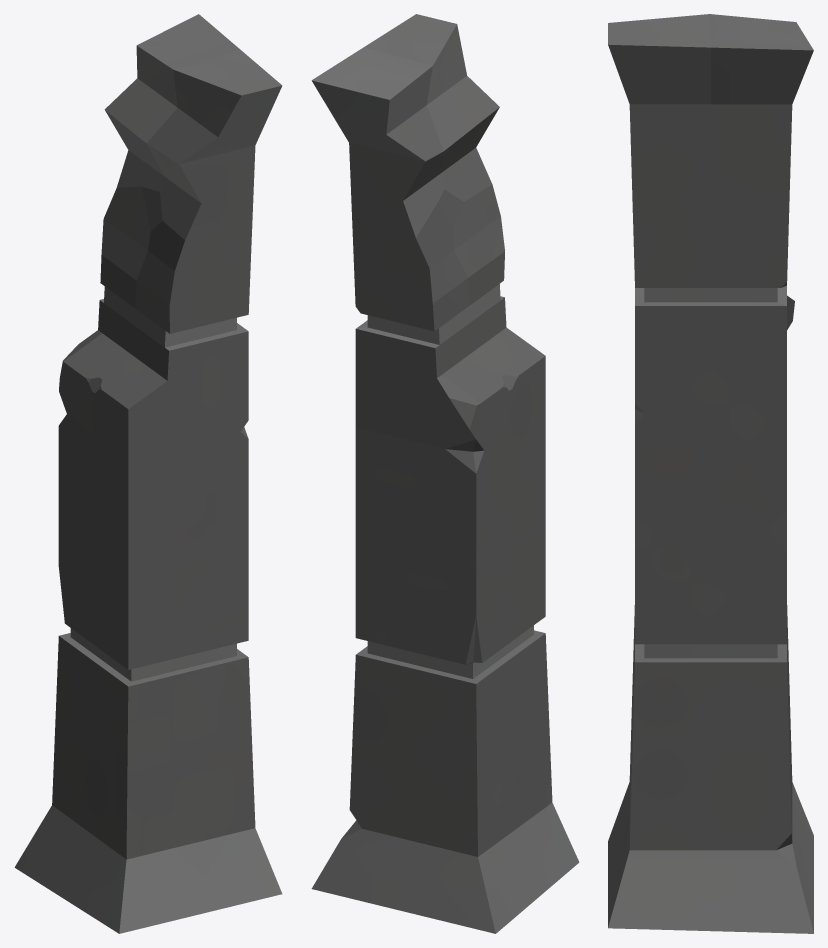
The model's file is Damaged_Pillar.fbx.
3 views of the same model, side by side, from view 1: azimuth 30°, elevation 25°; view 2: azimuth 150°, elevation 25°; view 3: azimuth 270°, elevation 25° (orthographic). The views are drawn at different scales.
Visible parts, largest first — view 1: Damaged Pillar; view 2: Damaged Pillar; view 3: Damaged Pillar.
Boxes of the visible parts, <box> form: Damaged Pillar: <box>14,14,282,933</box>; Damaged Pillar: <box>311,14,579,933</box>; Damaged Pillar: <box>608,14,813,933</box>.
Bounding box in the file's own units: 59.59 × 250 × 52.76.
